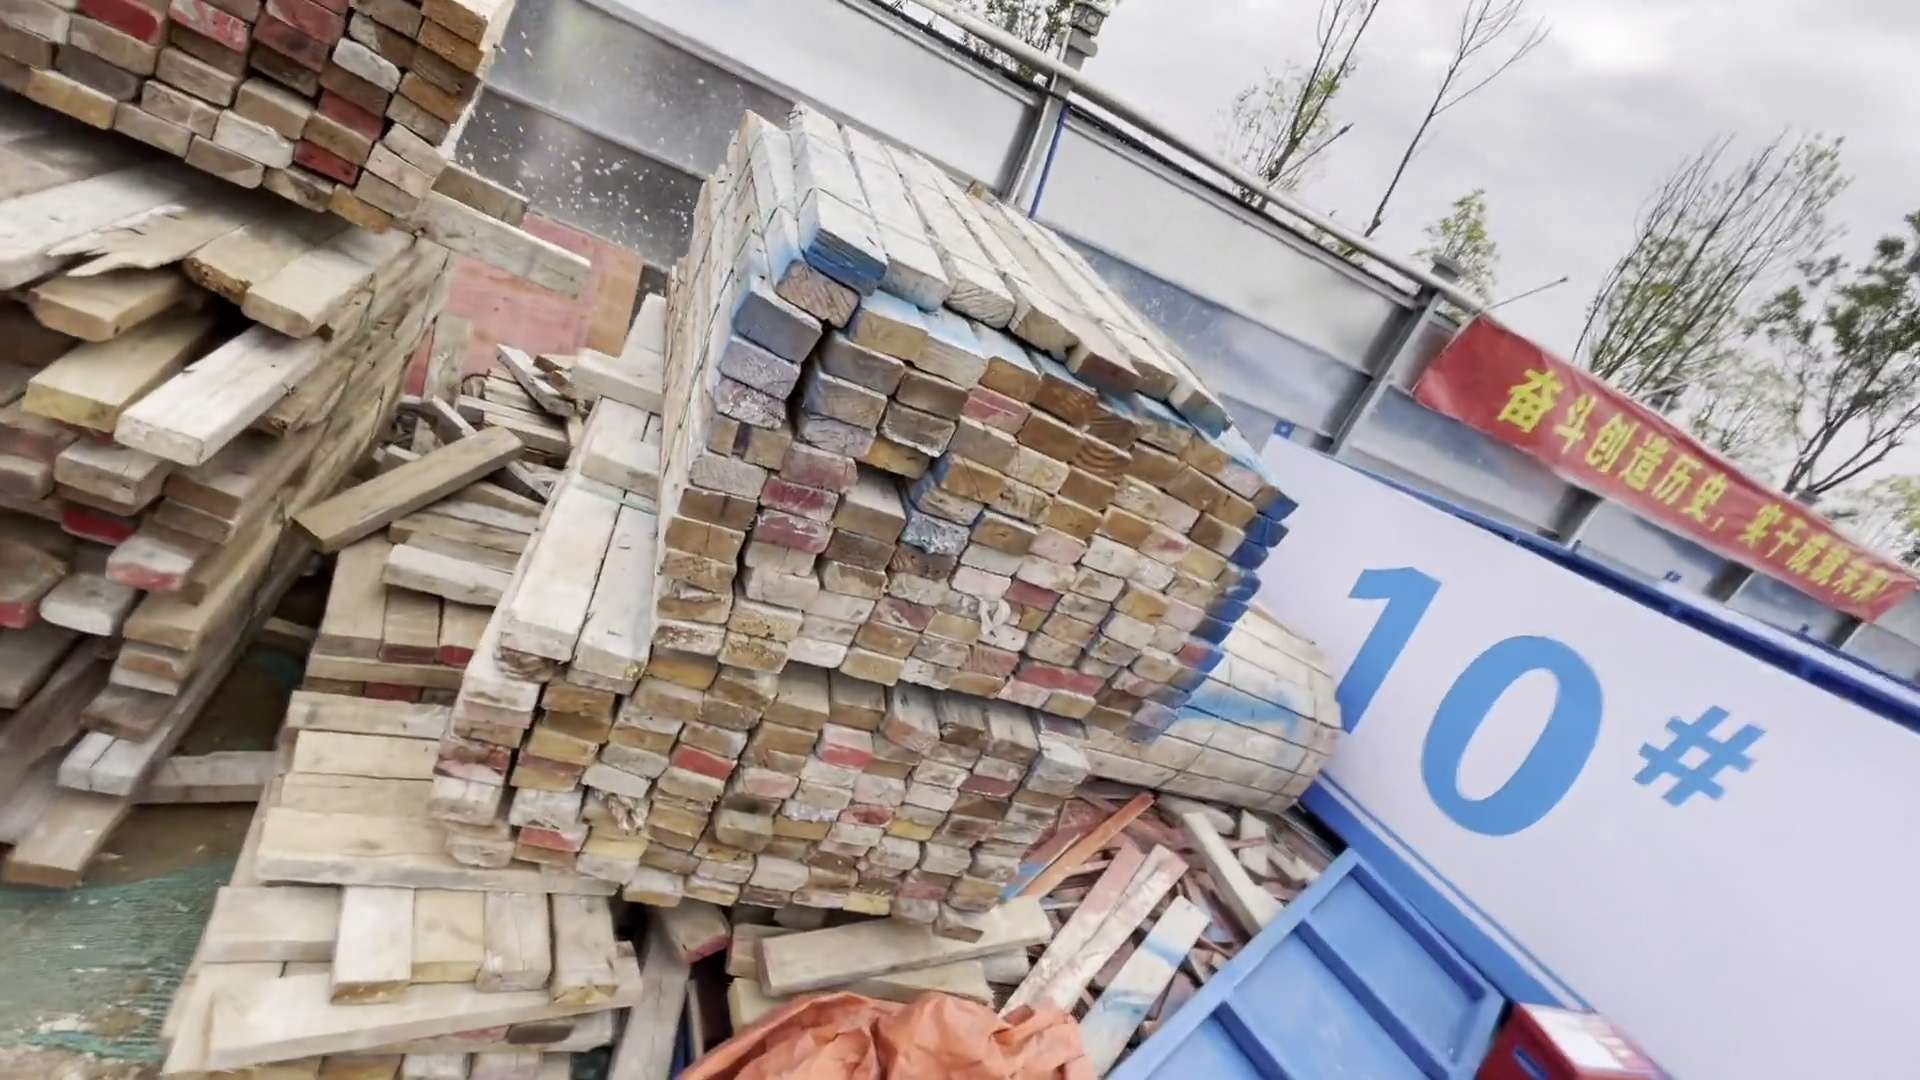slogan: (1423, 282, 1905, 659)
wood: (667, 127, 1298, 738), (11, 199, 435, 895), (472, 505, 1087, 920), (3, 4, 524, 232)
